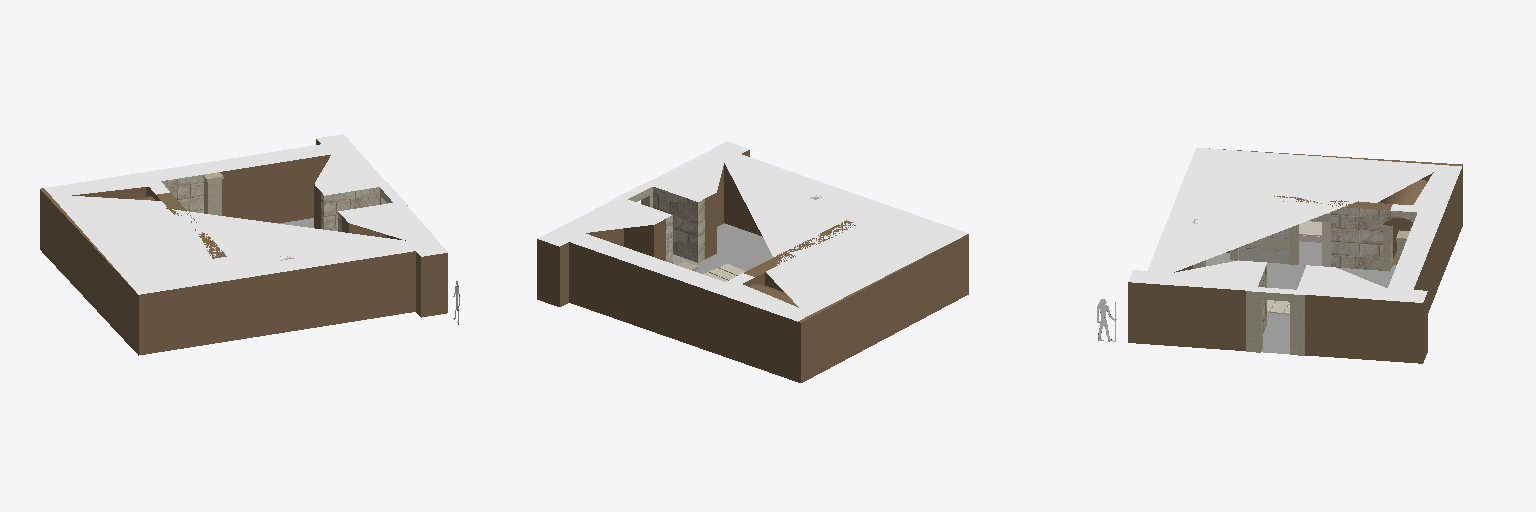
3 views of the same model, side by side, from view 1: azimuth 30°, elevation 25°; view 2: azimuth 150°, elevation 25°; view 3: azimuth 270°, elevation 25° (orthographic).
Parts seen in each view (by area): view 1: Mesh3 Model, Mesh1 Component_1_1 Model; view 2: Mesh3 Model; view 3: Mesh3 Model.
Boxes of the visible parts, <box> form: Mesh3 Model: <box>40,134,447,355</box>; Mesh1 Component_1_1 Model: <box>203,172,223,215</box>; Mesh3 Model: <box>537,141,968,382</box>; Mesh3 Model: <box>1128,148,1462,363</box>.
Bounding box in the file's own units: 12.52 × 2.3 × 12.46.
Materials: 13 (5 with a texture image).